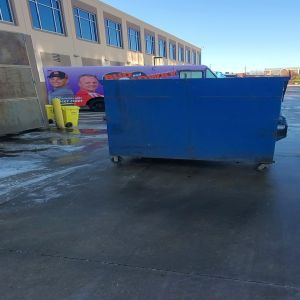Dumpster: (98, 78, 290, 176)
